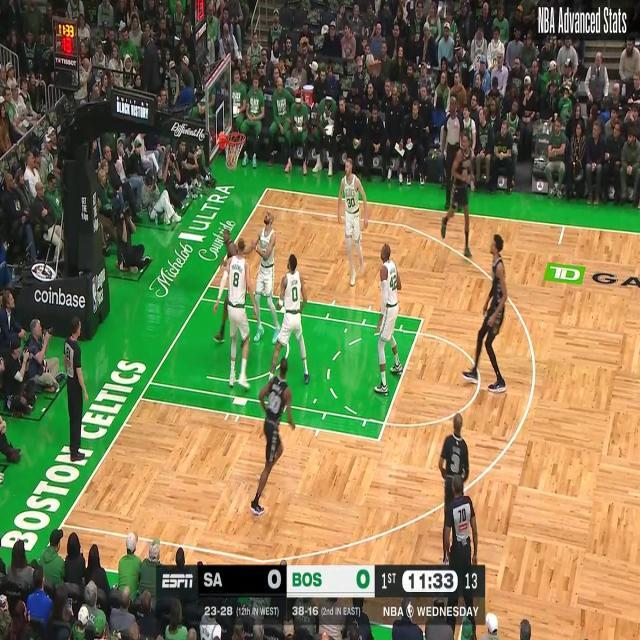ball: (224, 148, 242, 176)
player: (461, 232, 509, 396), (249, 356, 297, 518), (430, 404, 474, 556), (220, 237, 260, 391), (267, 252, 311, 386), (439, 128, 477, 260), (372, 242, 403, 398), (214, 225, 248, 353), (336, 154, 368, 288), (252, 209, 282, 347)
